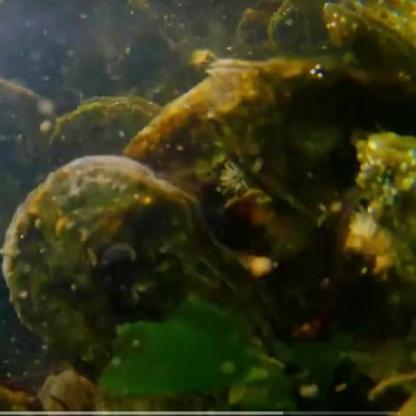Oyster- Indeterminate: (49, 95, 166, 167), (323, 1, 416, 89), (37, 368, 99, 410)
Oyster-Closed: (0, 159, 293, 416), (199, 59, 377, 221)
